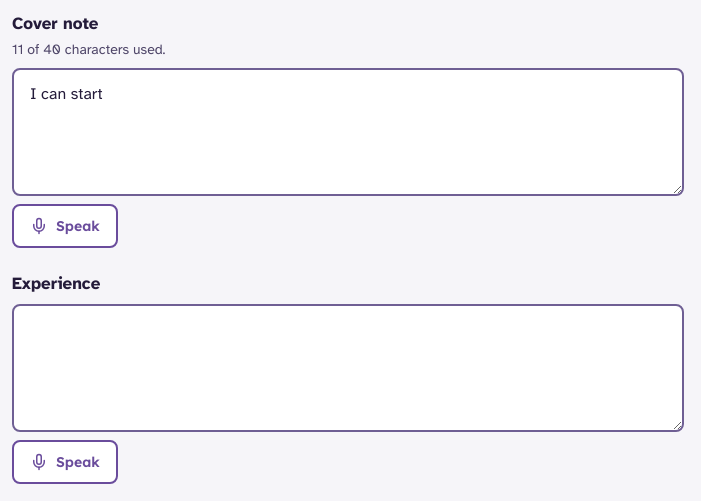
Scenario: Voice input › a browser without a speech service: the message takes the button’s place and the browser is remembered
The image size is (701, 501).
Click the button named "Speak instead of typing (Cover note)".
click(65, 226)  # box [12, 204, 118, 248]
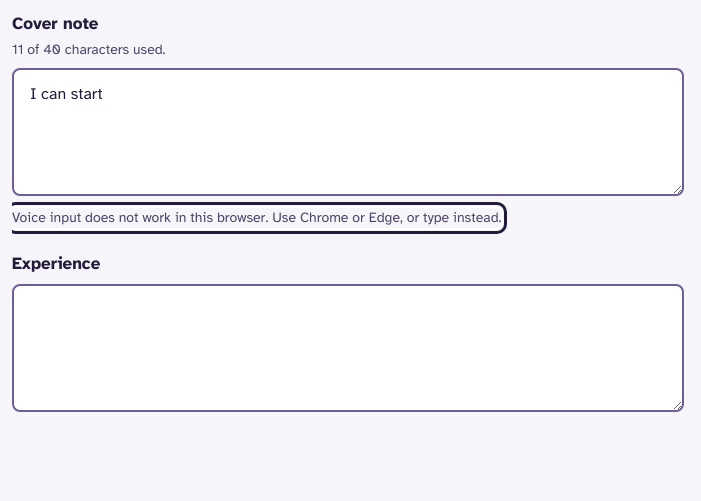
Expected: the button "Speak" is gone
Expected: the message reads "Voice input does not work in this browser. Use Chrome or Edge, or type instead.", [12, 209, 501, 226]
